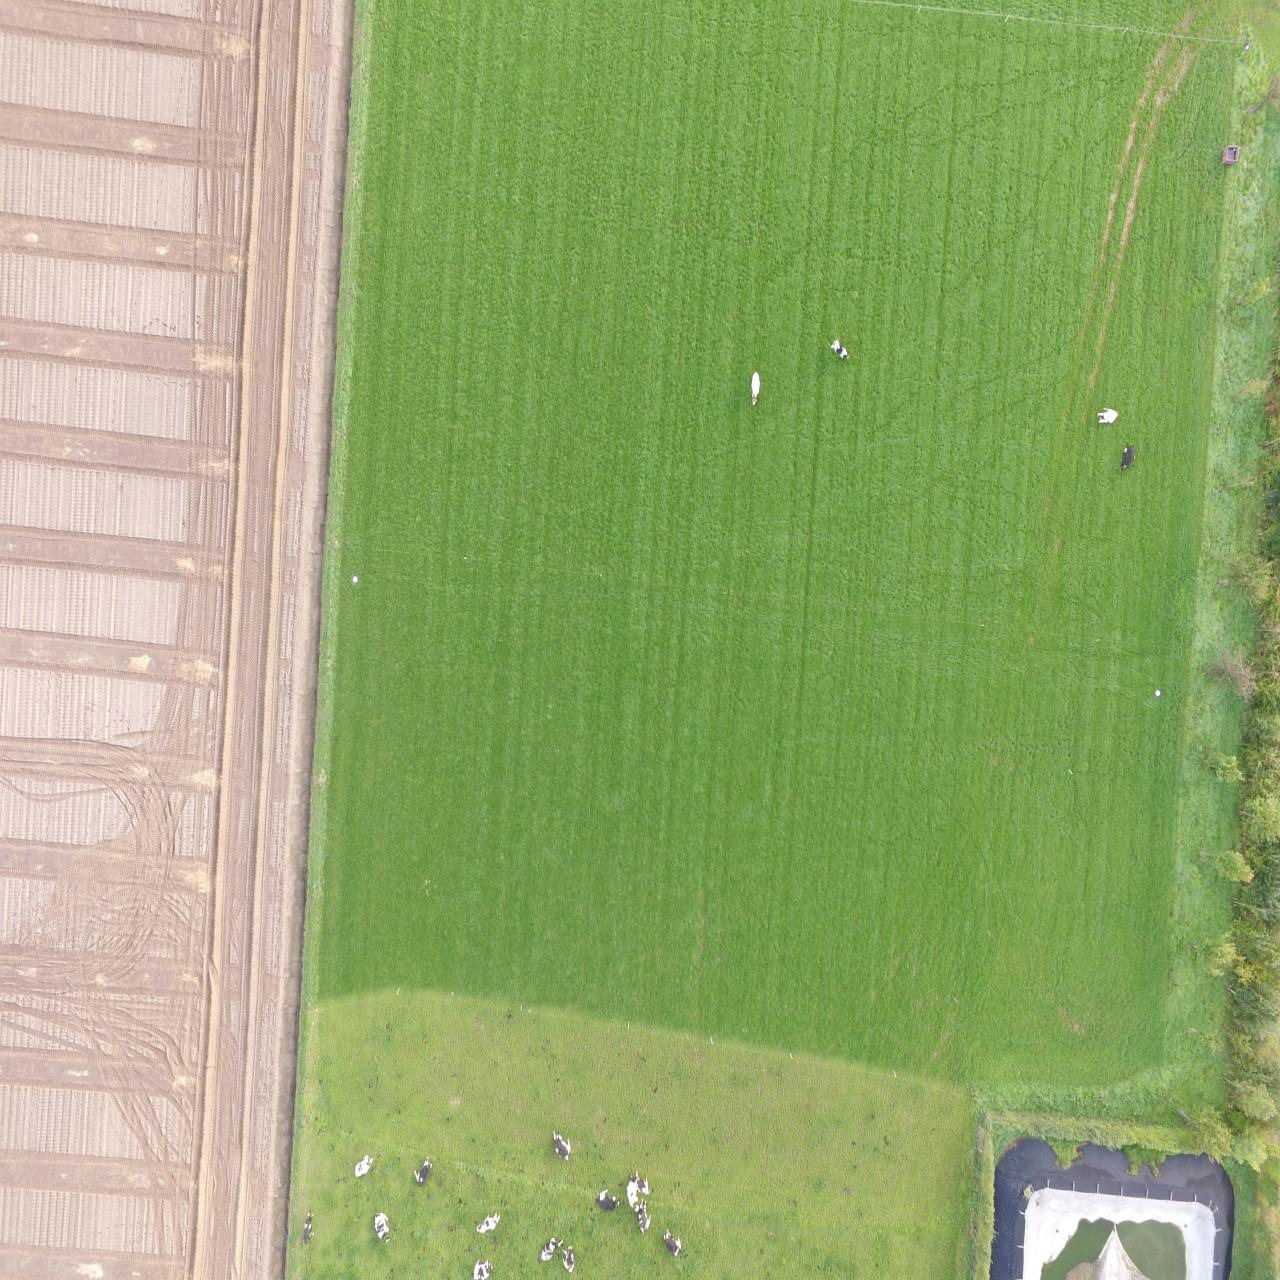cow: (370, 1211, 396, 1245), (411, 1155, 435, 1186), (551, 1129, 572, 1160), (474, 1211, 501, 1234), (626, 1172, 640, 1214), (595, 1189, 619, 1213), (662, 1226, 680, 1258), (353, 1152, 373, 1179), (540, 1235, 561, 1260), (632, 1170, 652, 1196), (301, 1205, 314, 1244), (1117, 444, 1135, 471), (474, 1254, 492, 1279), (748, 372, 761, 407), (1098, 406, 1119, 427), (638, 1199, 652, 1231), (561, 1242, 576, 1273), (832, 338, 850, 361)
